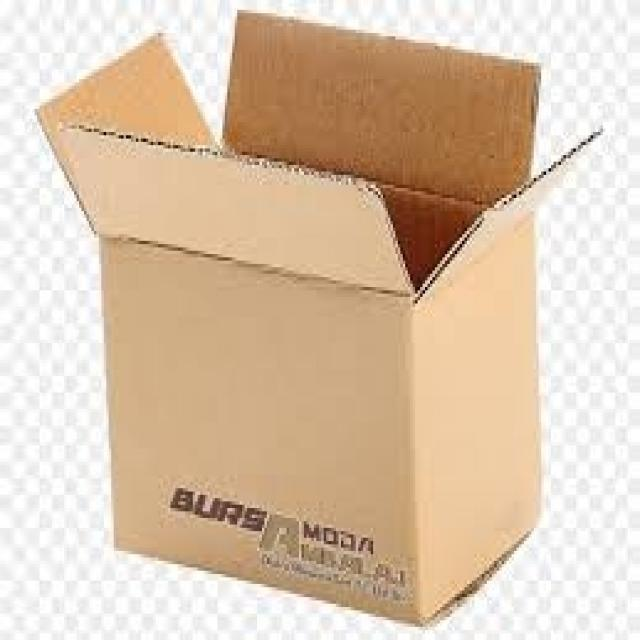cardboard paper: (37, 11, 588, 620)
